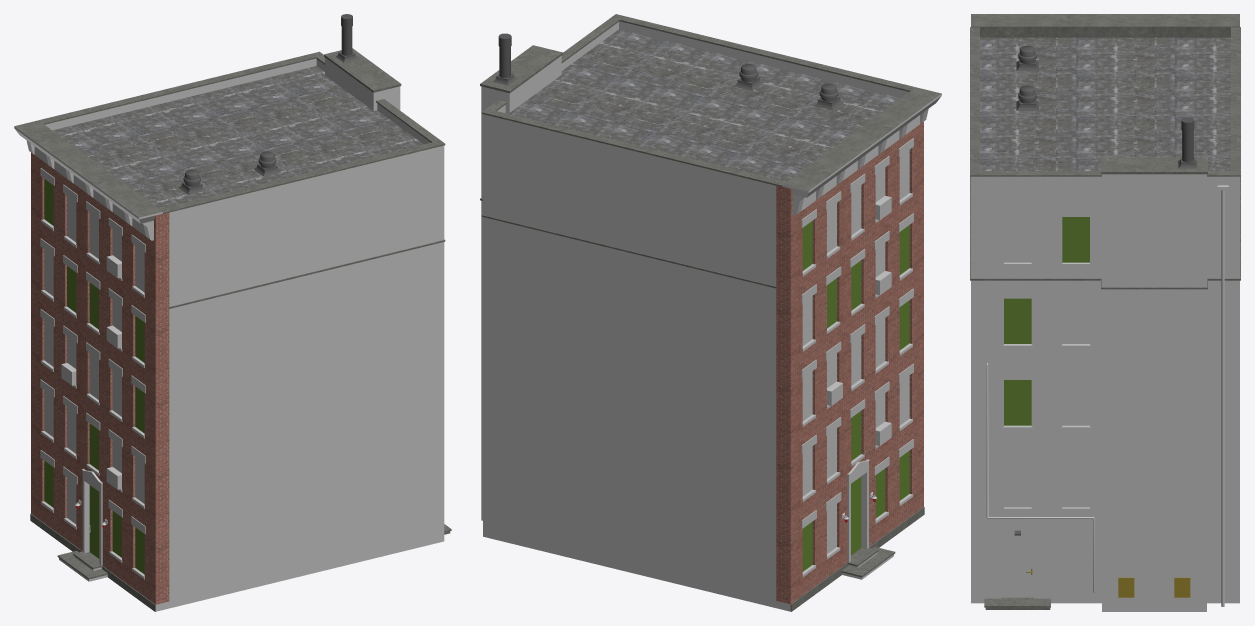
File: mcp_building_11_LOD_0.FBX
3 renders of one model, left to right at view 1: azimuth 30°, elevation 25°; view 2: azimuth 150°, elevation 25°; view 3: azimuth 270°, elevation 25°, orthographic. The views are drawn at different scales.
Visible parts, largest first — view 1: mcp_building_11_walls, mcp_building_11_roof, mcp_building_11, mcp_building_11_concrete, mcp_building_11_props_03; view 2: mcp_building_11_walls, mcp_building_11_roof, mcp_building_11, mcp_building_11_concrete, mcp_building_11_props_03; view 3: mcp_building_11_walls, mcp_building_11_roof, mcp_building_11, mcp_building_11_concrete, mcp_building_11_door, mcp_building_11_props_03, mcp_building_11_pipes, mcp_building_11_props_02.
Part boxes in pixels (x1,y1,x2,y2): mcp_building_11_walls: (31, 57, 444, 611); mcp_building_11_roof: (52, 66, 423, 208); mcp_building_11: (14, 120, 162, 579); mcp_building_11_concrete: (30, 48, 451, 611); mcp_building_11_props_03: (178, 14, 358, 194); mcp_building_11_walls: (481, 21, 923, 611); mcp_building_11_roof: (505, 29, 900, 181); mcp_building_11: (783, 87, 941, 577); mcp_building_11_concrete: (480, 14, 924, 611); mcp_building_11_props_03: (492, 33, 843, 110); mcp_building_11_walls: (971, 174, 1239, 611); mcp_building_11_roof: (980, 37, 1230, 170); mcp_building_11: (971, 14, 1239, 606); mcp_building_11_concrete: (970, 27, 1240, 609); mcp_building_11_door: (1001, 541, 1033, 597); mcp_building_11_props_03: (1016, 45, 1197, 168); mcp_building_11_pipes: (986, 363, 1094, 592); mcp_building_11_props_02: (1026, 568, 1190, 597).
Size of the model in its own units: 1840 by 2440 by 1230.
